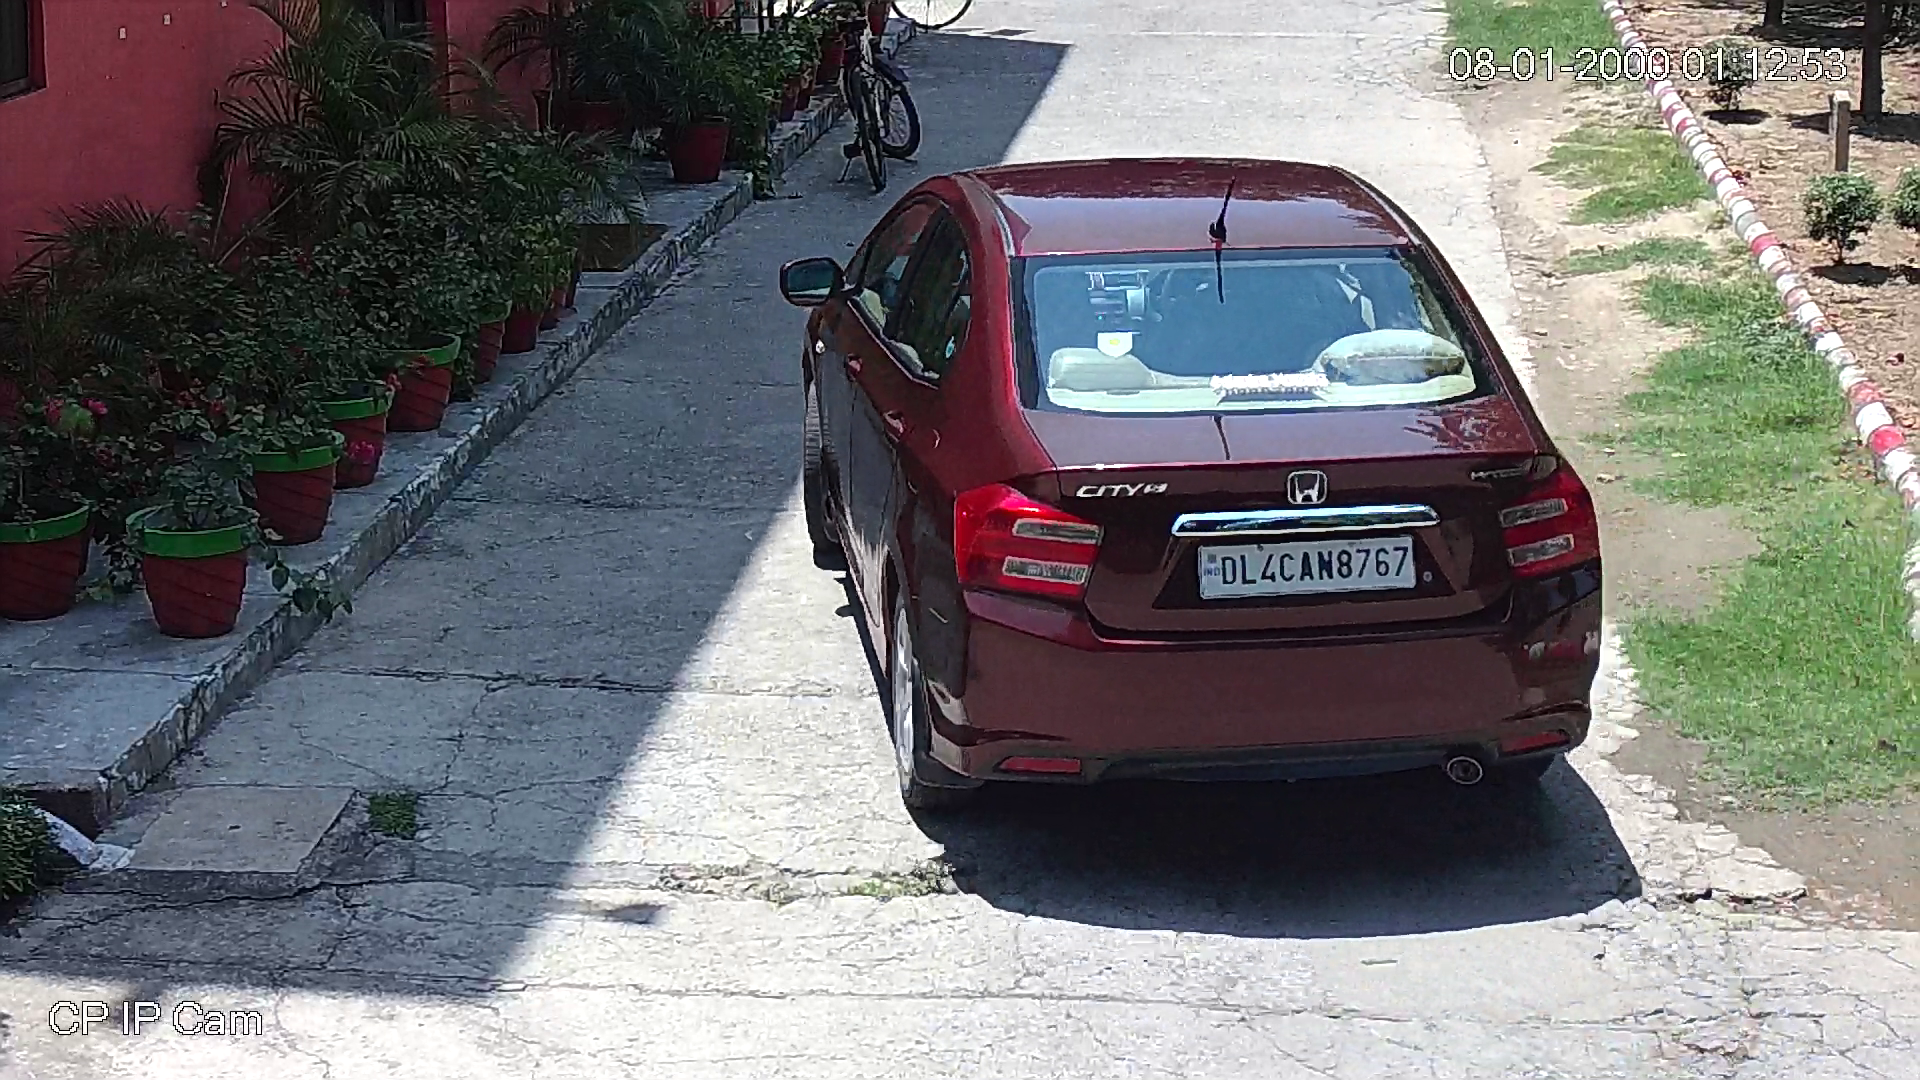plate: (1189, 531, 1424, 609)
